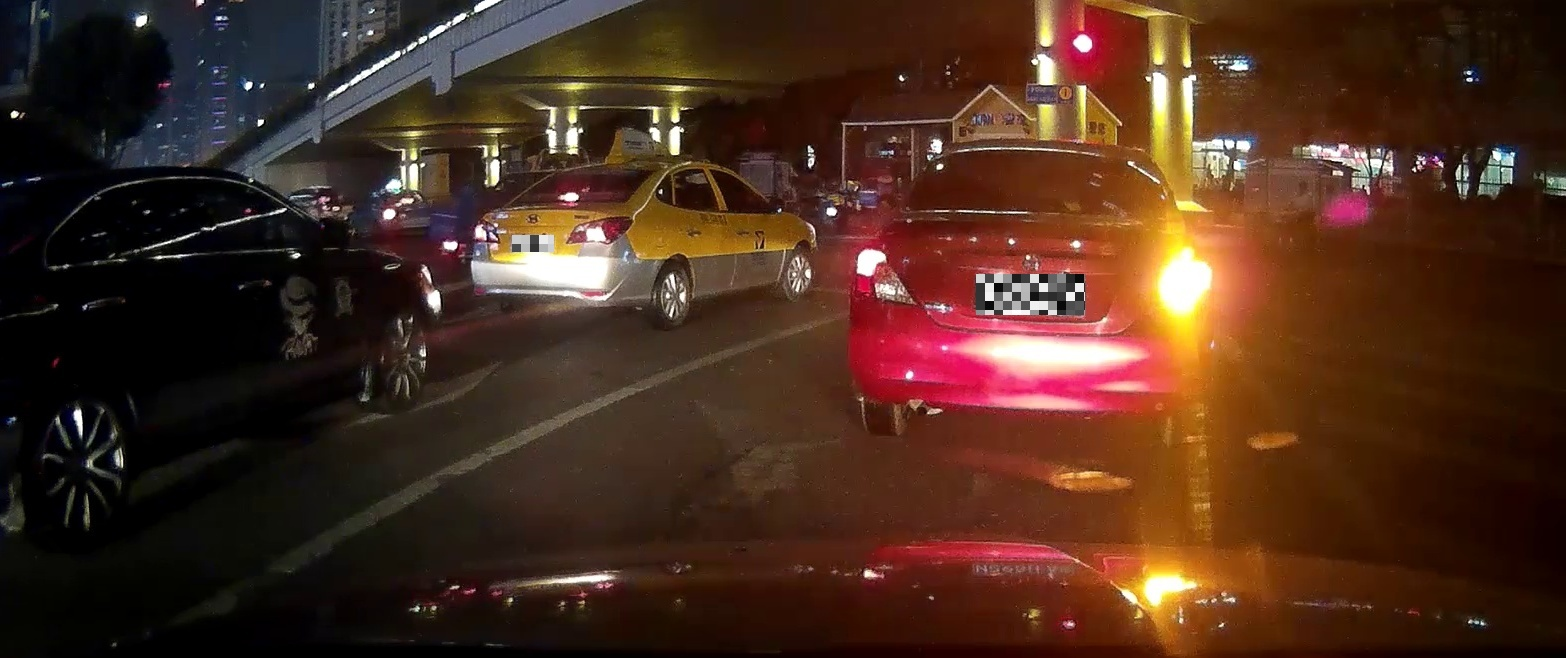L_light: (853, 248, 920, 306), (473, 219, 501, 243)
R_light: (1145, 259, 1205, 313), (565, 216, 633, 245)
T_light: (1021, 148, 1061, 161), (557, 192, 579, 202)
night-brake: (470, 157, 658, 329)
night-right: (848, 139, 1209, 445)
plate_1: (512, 235, 554, 252)
plate_2: (976, 274, 1085, 315)
